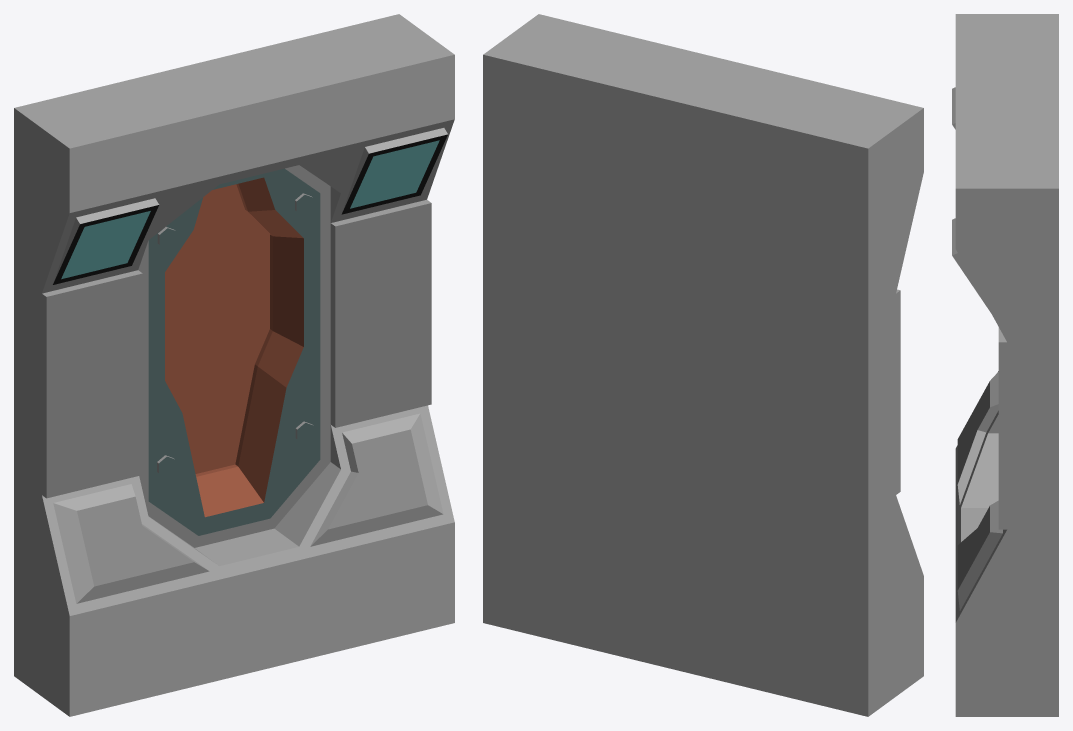
File: SciFi_Wall_Panel_Escape_Pod_Grey_01.fbx
3 views of the same model, side by side, from view 1: azimuth 30°, elevation 25°; view 2: azimuth 150°, elevation 25°; view 3: azimuth 270°, elevation 25° (orthographic). The views are drawn at different scales.
Parts seen in each view (by area): view 1: SciFi_Wall_Panel_Escape_Pod_Grey_01; view 2: SciFi_Wall_Panel_Escape_Pod_Grey_01; view 3: SciFi_Wall_Panel_Escape_Pod_Grey_01.
Part boxes in pixels (left/top/right/bottom): SciFi_Wall_Panel_Escape_Pod_Grey_01: left=14, top=14, right=454, bottom=716; SciFi_Wall_Panel_Escape_Pod_Grey_01: left=483, top=14, right=923, bottom=716; SciFi_Wall_Panel_Escape_Pod_Grey_01: left=952, top=14, right=1058, bottom=716.
Bounding box in the file's own units: 62.99 × 88.83 × 16.28.
